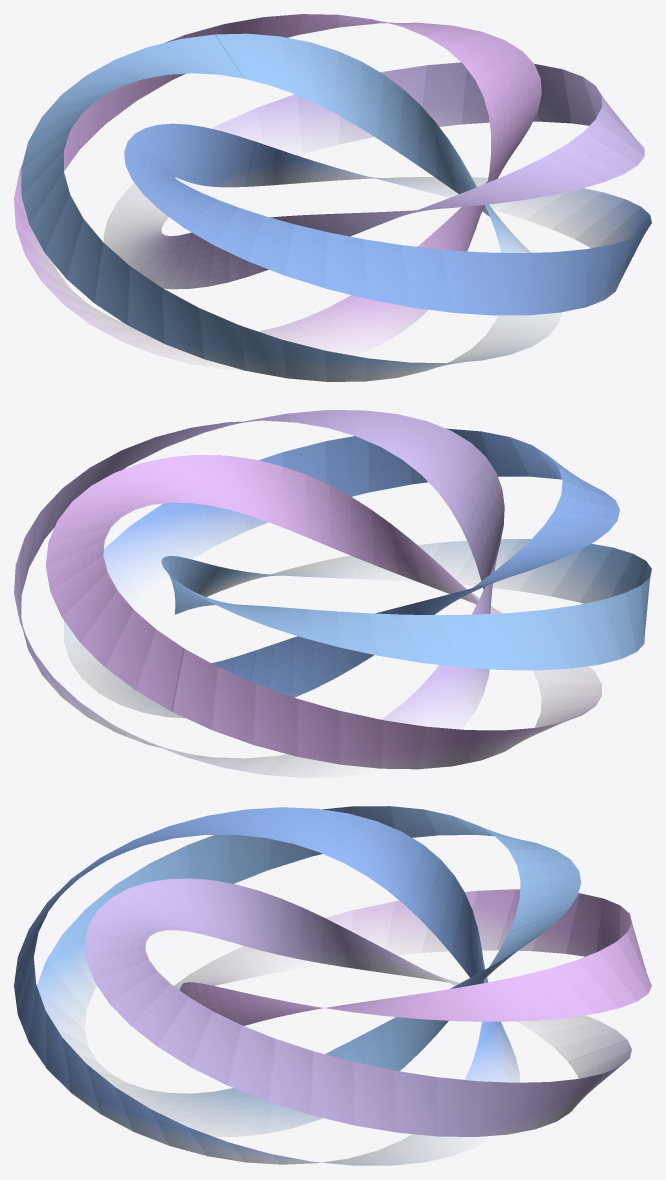
Rendered from ring-flower-pink.glb.
3 views of the same model, one above another, from view 1: azimuth 30°, elevation 25°; view 2: azimuth 150°, elevation 25°; view 3: azimuth 270°, elevation 25° (orthographic).
Parts seen in each view (by area): view 1: Cylinder.001, Cylinder.004, Cylinder.003, Cylinder.002; view 2: Cylinder.002, Cylinder.001, Cylinder.004, Cylinder.003; view 3: Cylinder.003, Cylinder.004, Cylinder.001, Cylinder.002.
Boxes of the visible parts, bbox=[...] form: Cylinder.001: bbox=[21, 33, 561, 381]; Cylinder.004: bbox=[124, 123, 651, 315]; Cylinder.003: bbox=[103, 62, 644, 289]; Cylinder.002: bbox=[14, 14, 541, 370]; Cylinder.002: bbox=[46, 455, 601, 769]; Cylinder.001: bbox=[161, 538, 651, 670]; Cylinder.004: bbox=[64, 428, 619, 718]; Cylinder.003: bbox=[14, 410, 504, 777]; Cylinder.003: bbox=[84, 878, 631, 1136]; Cylinder.004: bbox=[14, 807, 520, 1165]; Cylinder.001: bbox=[37, 806, 581, 1136]; Cylinder.002: bbox=[174, 889, 651, 1025].
Bounding box in the file's own units: 7.59 × 2 × 7.61.
4 materials, 4 textured.
